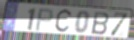0: (74, 10, 91, 35)
1: (27, 7, 37, 32)
7: (110, 12, 129, 38)
B: (90, 12, 110, 36)
C: (54, 8, 74, 35)
P: (34, 8, 54, 32)
